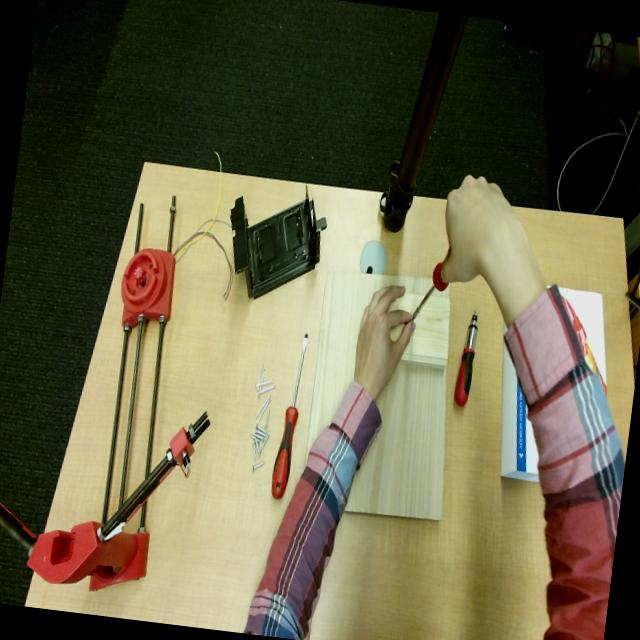screwdriver: (271, 334, 308, 499), (454, 309, 478, 407), (411, 262, 448, 322)
